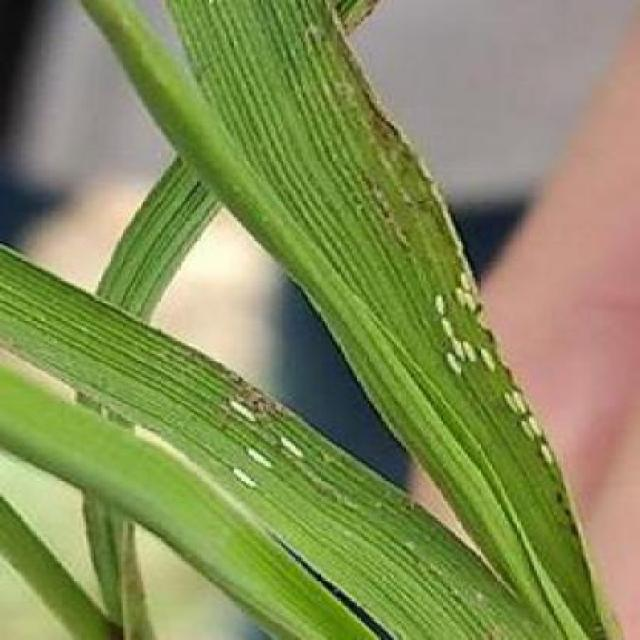whorl-maggot: (222, 394, 263, 429), (240, 443, 286, 474), (224, 465, 264, 500), (502, 391, 530, 417), (280, 435, 308, 460), (530, 414, 556, 438), (540, 443, 562, 469), (440, 318, 462, 344), (452, 271, 480, 291), (480, 349, 502, 374), (463, 336, 480, 366), (444, 349, 462, 377), (448, 337, 468, 361), (464, 294, 482, 318), (518, 420, 536, 443), (437, 295, 452, 320)
